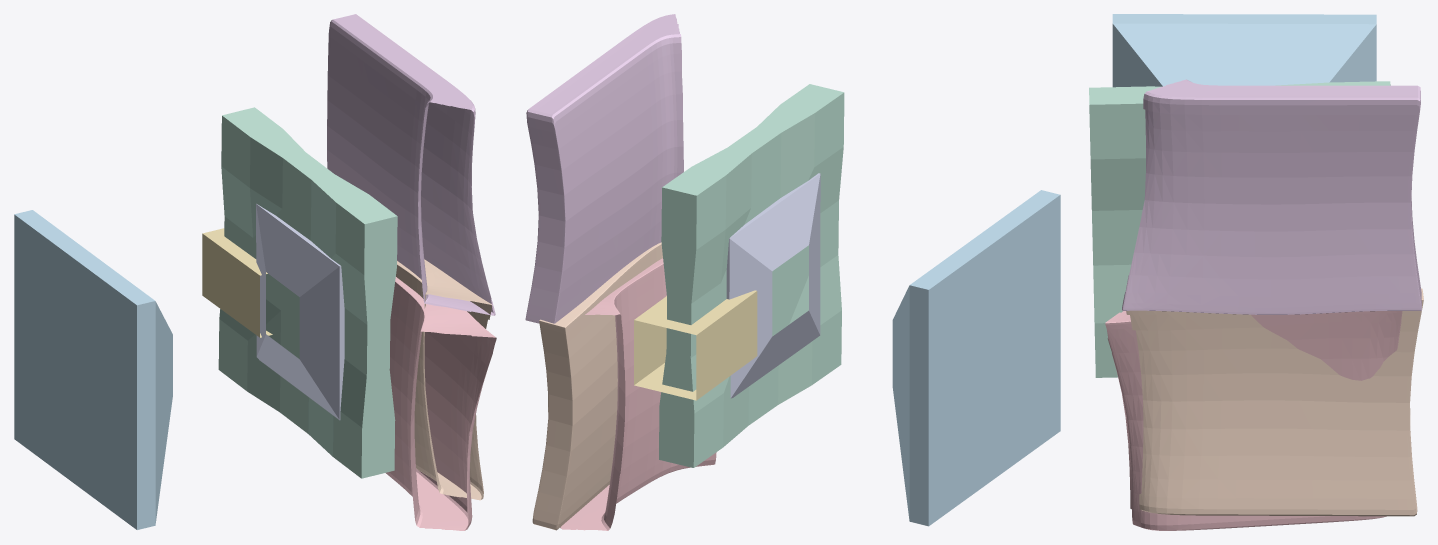
Rendered from view_input_colored.glb.
The picture shows the model from 3 angles, left to right: view 1: azimuth 30°, elevation 25°; view 2: azimuth 150°, elevation 25°; view 3: azimuth 270°, elevation 25°; orthographic projection. The views are drawn at different scales.
Visible parts, largest first — view 1: world; view 2: world; view 3: world.
Boxes of the visible parts, x1,y1,x2,y2 form: world: (14,14,496,530); world: (525,14,1060,530); world: (1089,14,1423,530).
Bounding box in the file's own units: 0.6964 × 0.749 × 0.5164.
